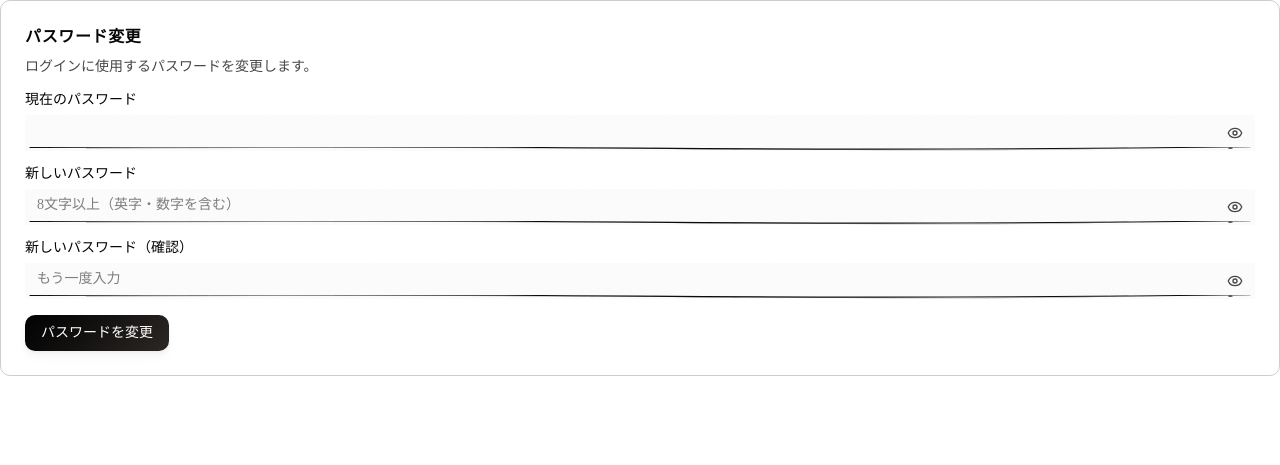
PasswordChangeForm › クライアント側検証 › 新しいパスワードが8文字未満の場合サーバーへ送らずエラーを表示する
Type "currentPass1" into the password field labelled "現在のパスワード" at (640, 133), box [25,115,1255,151]
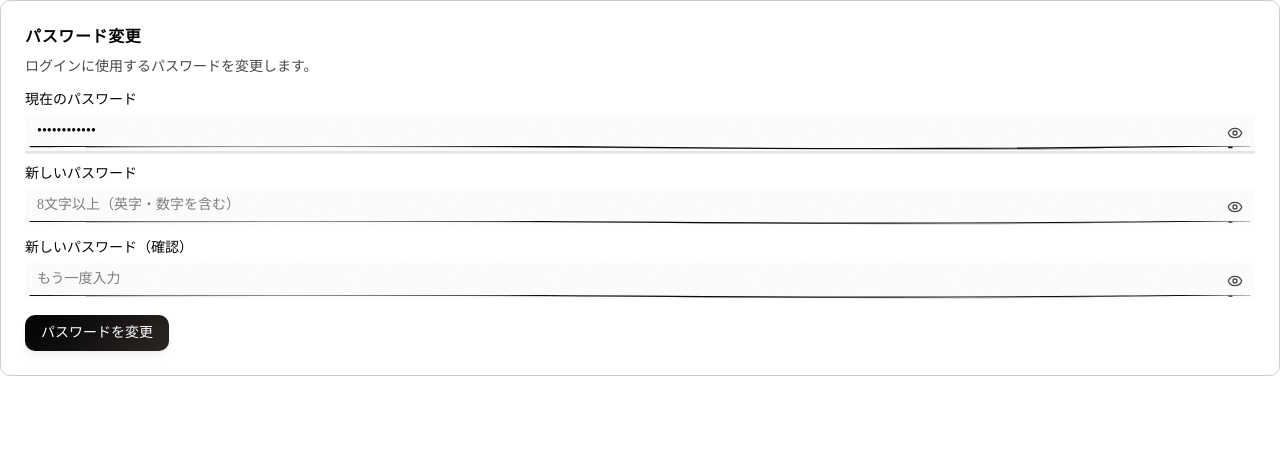
Type "ab1" into the password field labelled "新しいパスワード" at (640, 207), box [25,189,1255,225]
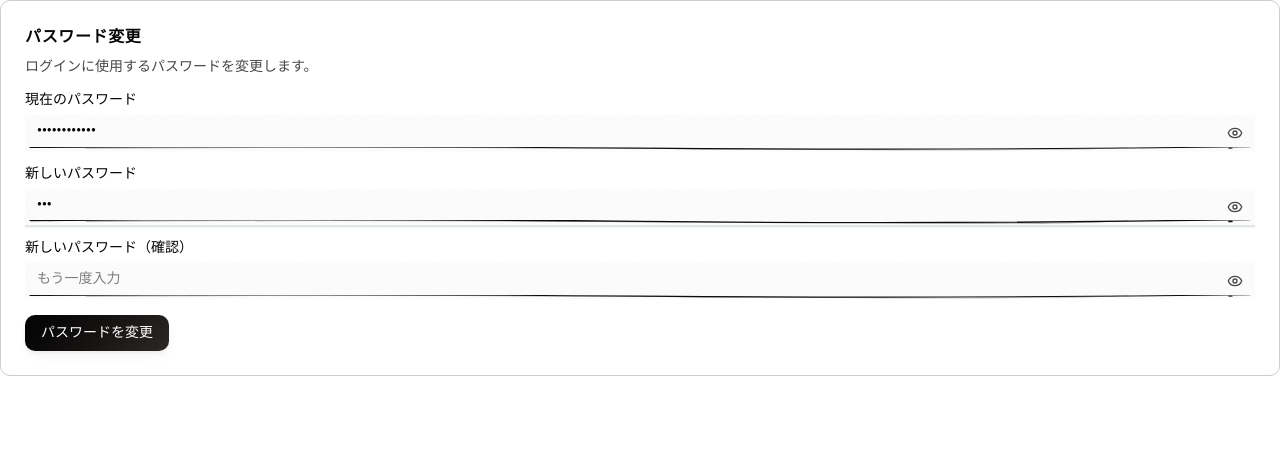
Type "ab1" into the password field labelled "新しいパスワード（確認）" at (640, 281), box [25,263,1255,299]
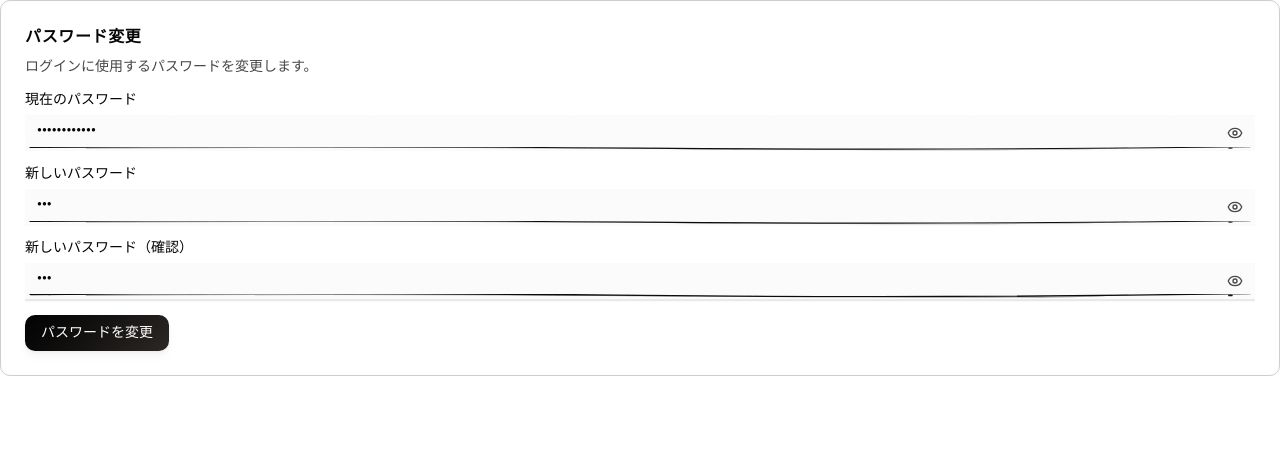
Click the button "パスワードを変更" at (97, 333), box [25,315,169,351]
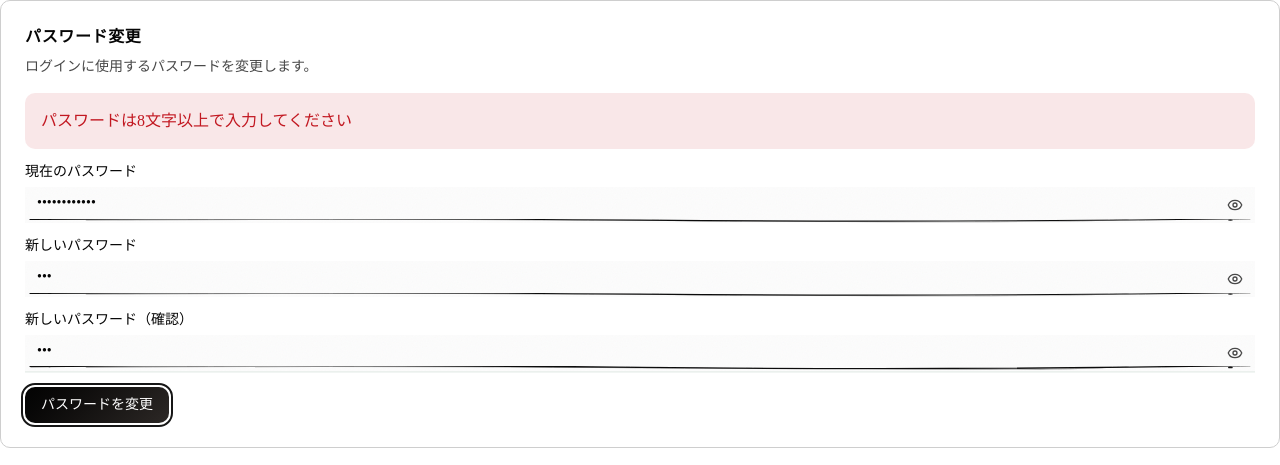
Check: the text "パスワードは8文字以上で入力してください" is shown, box [25,93,1255,149]
